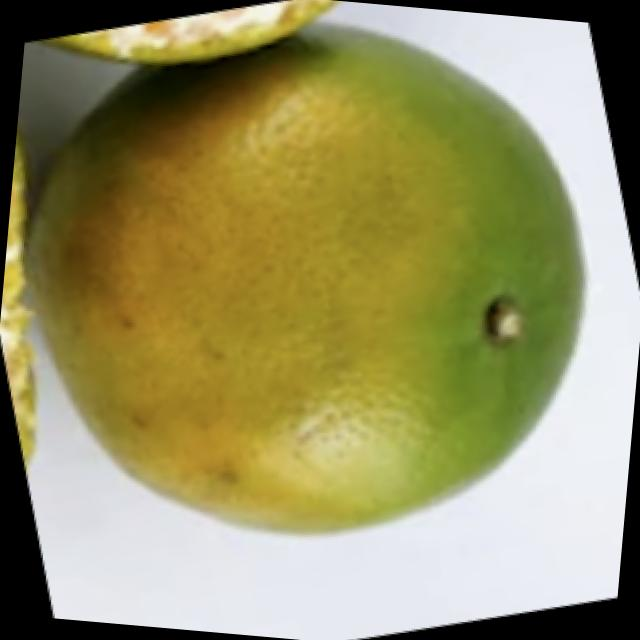orange: (0, 0, 619, 582)
